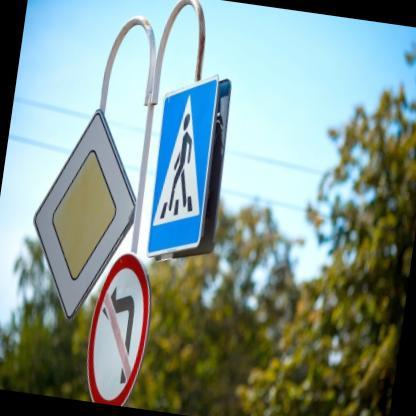road_sign: (34, 111, 135, 318), (147, 78, 218, 254), (88, 254, 150, 405)
